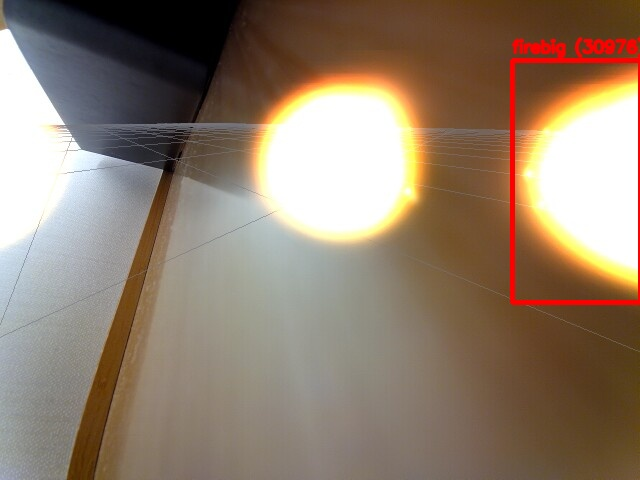firebig: (512, 60, 640, 302)
